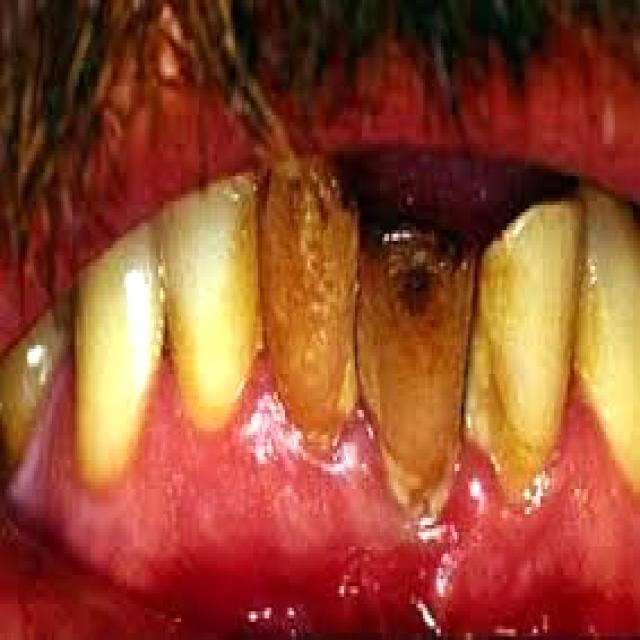tooth-discoloration: (464, 198, 581, 496), (357, 230, 473, 514), (260, 155, 357, 449), (161, 173, 260, 428), (75, 223, 163, 482), (574, 187, 638, 493)
